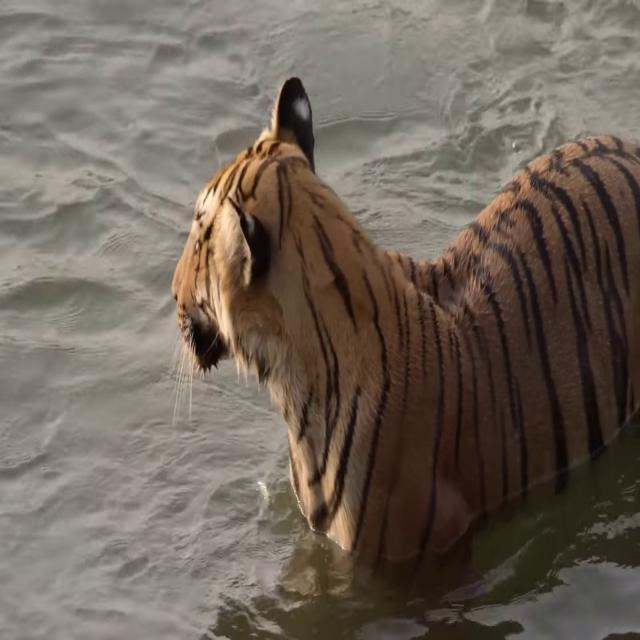tiger: (170, 74, 640, 556)
